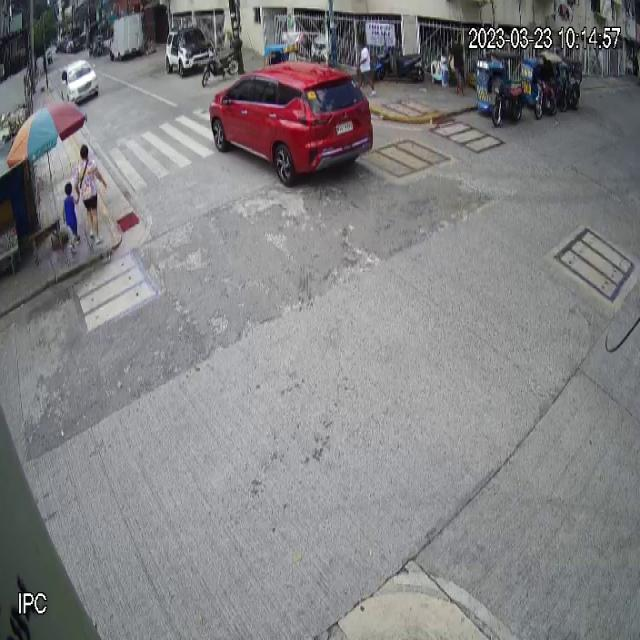Car: (209, 60, 374, 188)
Tricycle: (476, 51, 524, 128)
